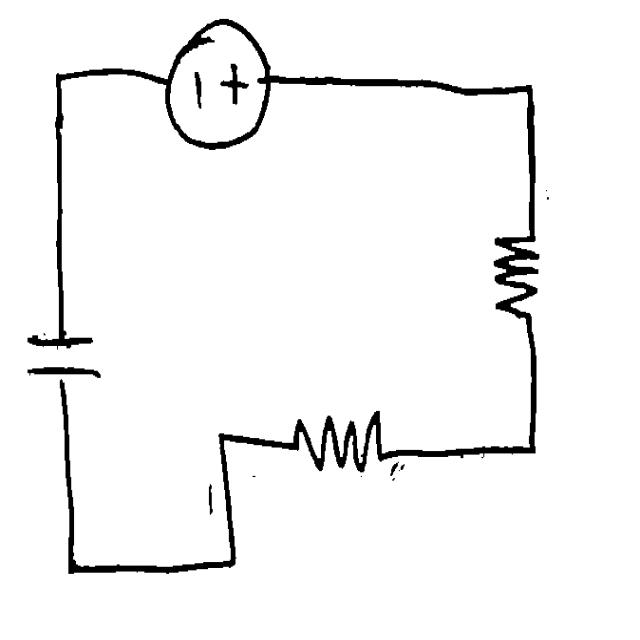capacitor: (21, 314, 108, 400)
dc: (162, 12, 278, 156)
resistor: (275, 398, 409, 491), (480, 220, 558, 344)
